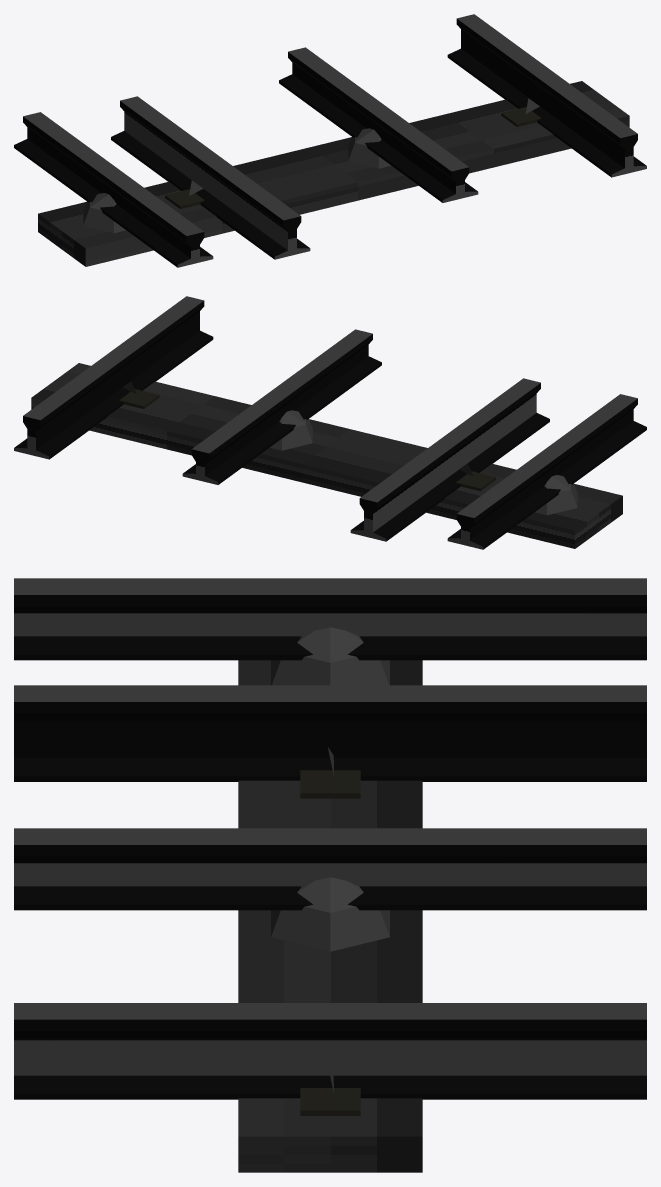
File: 4thrail.obj
3 renders of one model, top to bottom at view 1: azimuth 30°, elevation 25°; view 2: azimuth 150°, elevation 25°; view 3: azimuth 270°, elevation 25°, orthographic. The views are drawn at different scales.
Parts seen in each view (by area): view 1: christunnel_(1)_christunnel_(1).003, Cylinder_Cylinder.002; view 2: christunnel_(1)_christunnel_(1).003, Cylinder_Cylinder.002; view 3: christunnel_(1)_christunnel_(1).003, Cylinder_Cylinder.002.
Part boxes in pixels (x1=…): christunnel_(1)_christunnel_(1).003: x1=14, y1=14, x2=646, y2=267; Cylinder_Cylinder.002: x1=38, y1=81, x2=629, y2=266; christunnel_(1)_christunnel_(1).003: x1=14, y1=296, x2=646, y2=549; Cylinder_Cylinder.002: x1=31, y1=363, x2=622, y2=548; christunnel_(1)_christunnel_(1).003: x1=14, y1=578, x2=646, y2=1115; Cylinder_Cylinder.002: x1=238, y1=660, x2=422, y2=1172.
Bounding box in the file's own units: 1.92 × 0.212 × 1.
Materials: 2 (2 with a texture image).
